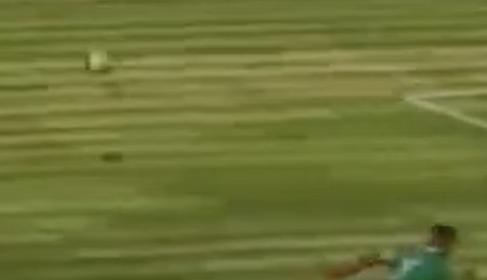ball: (78, 45, 119, 79)
